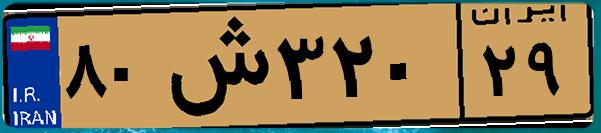0: (385, 28, 445, 110), (110, 28, 158, 98)
2: (330, 28, 385, 110), (475, 38, 525, 113)
3: (270, 28, 330, 110)
8: (57, 26, 110, 100)
9: (525, 38, 570, 115)
ش: (158, 12, 270, 120)
